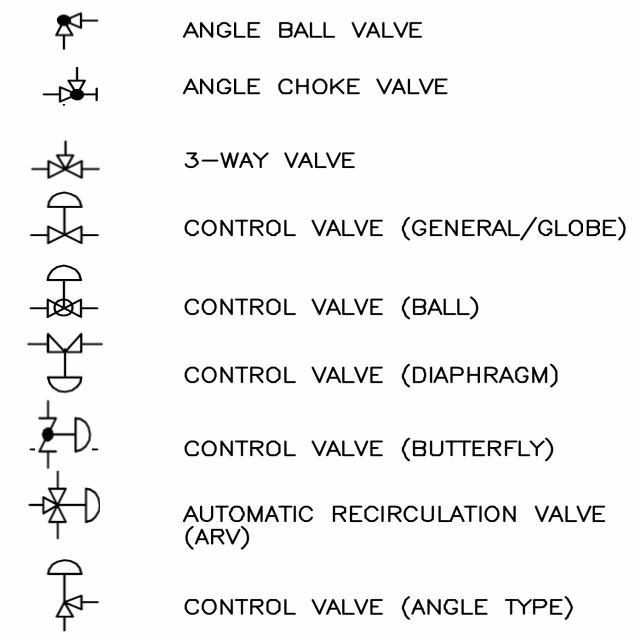3WayValve: (30, 139, 101, 182)
AngleBallValve: (53, 12, 101, 51)
AngleChokeValve: (42, 67, 100, 105)
AngleTypeControlValve: (46, 557, 101, 633)
AutomaticRecirculationValve: (28, 470, 101, 543)
BallControlValve: (29, 263, 101, 323)
ButterflyControlValve: (33, 403, 97, 467)
DiaphragmControlValve: (25, 331, 105, 396)
GlobeControlValve: (30, 191, 101, 249)
